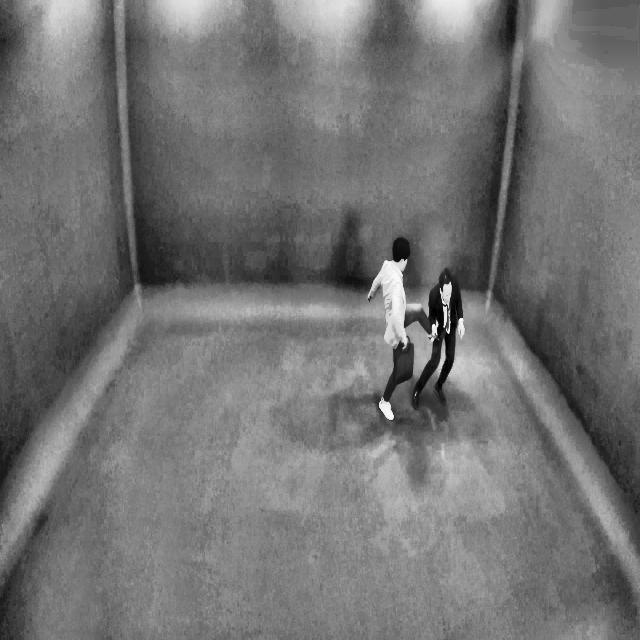assult: (359, 219, 477, 419), (398, 271, 462, 373)
